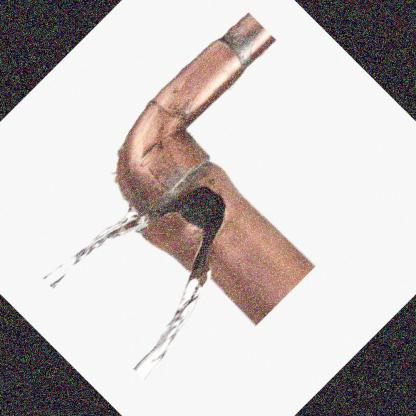burst: (105, 173, 250, 301)
